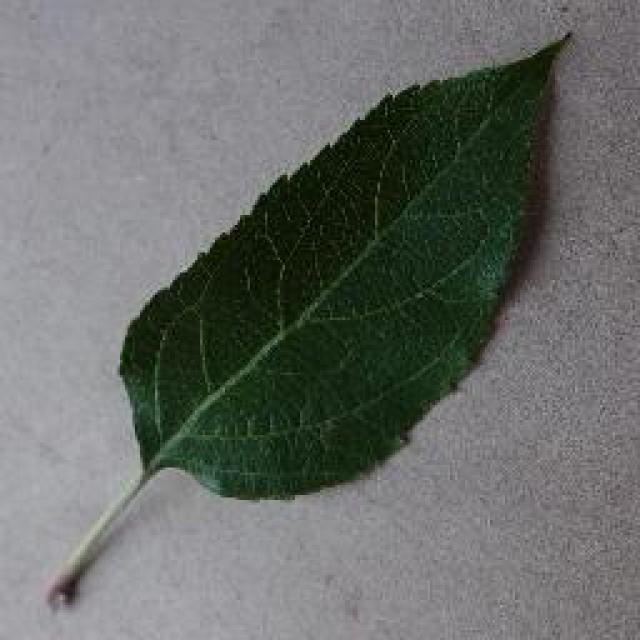Apple___healthy: (111, 24, 579, 506)
